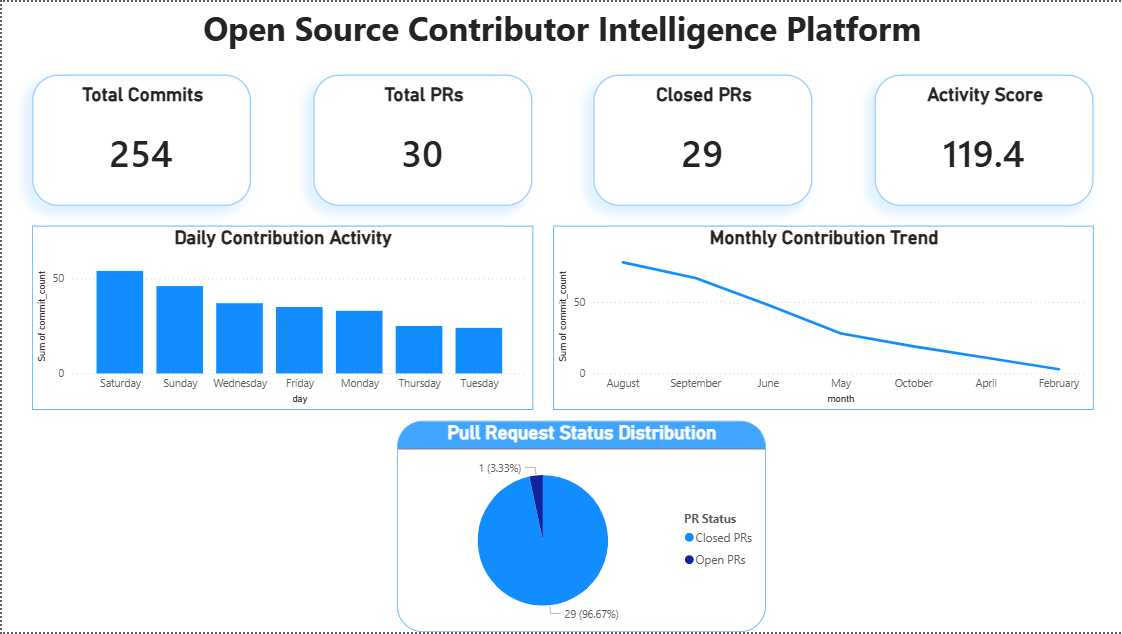

The page's visual inventory and layout, read from the dashboard file:
{"tool":"powerbi","page":{"name":"Contributer Overview","canvas":[1280,720],"ordinal":0},"visuals":[{"type":"cardVisual","title":"Total Commits","fields":{"Data":["Sum(contributor_ranking.total_commits)"]},"box":[33.8,82.5,250,150],"z":0},{"type":"cardVisual","title":"Total PRs","fields":{"Data":["Sum(contributor_ranking.total_prs)"]},"box":[356.2,82.5,250,150],"z":1000},{"type":"cardVisual","title":"Closed PRs","fields":{"Data":["Sum(contributor_ranking.closed_prs)"]},"box":[676.2,82.5,250,150],"z":2000},{"type":"cardVisual","title":"Activity Score","fields":{"Data":["Sum(contributor_ranking.activity_score)"]},"box":[997.5,82.5,250,150],"z":3000},{"type":"clusteredColumnChart","title":"Daily Contribution Activity","fields":{"Category":["daily_activity.day"],"Y":["Sum(daily_activity.commit_count)"]},"box":[33.8,255,572.5,210],"z":4000},{"type":"lineChart","title":"Monthly Contribution Trend","fields":{"Category":["monthly_activity.month"],"Y":["Sum(monthly_activity.commit_count)"]},"box":[630,255,617.5,210],"z":5000},{"type":"pieChart","title":"Pull Request Status Distribution","fields":{"Category":["pr_analytics.metric"],"Y":["Sum(pr_analytics.value)"]},"box":[451.2,478.8,421.2,241.2],"z":6000},{"type":"textbox","box":[0,0,1280.3,67.2],"z":7000}]}

Visuals, with their boxes in screenshot pixels (x1, y1, x2, y2), scaled from the page's 1280x720 canvas onto the 1122x634 screenshot:
"Total Commits" cardVisual: bbox=[30, 73, 249, 205]
"Total PRs" cardVisual: bbox=[312, 73, 531, 205]
"Closed PRs" cardVisual: bbox=[593, 73, 812, 205]
"Activity Score" cardVisual: bbox=[874, 73, 1094, 205]
"Daily Contribution Activity" clusteredColumnChart: bbox=[30, 225, 531, 409]
"Monthly Contribution Trend" lineChart: bbox=[552, 225, 1094, 409]
"Pull Request Status Distribution" pieChart: bbox=[396, 422, 765, 633]
textbox: bbox=[0, 0, 1121, 59]
